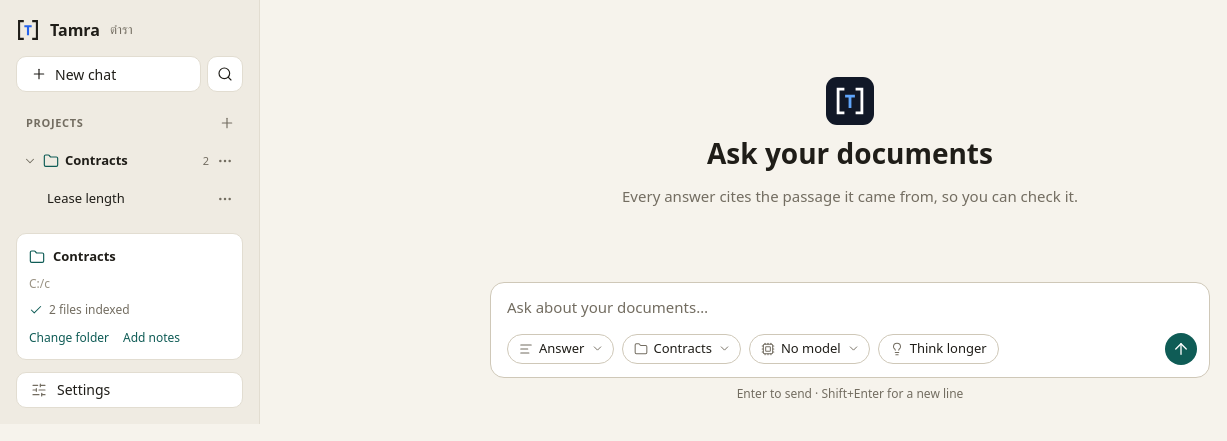
App › offers Rename, Move to project and Delete chat in the chat menu
Click the button named "Options for Lease length" at x=225, y=199, box [211,185,239,213]
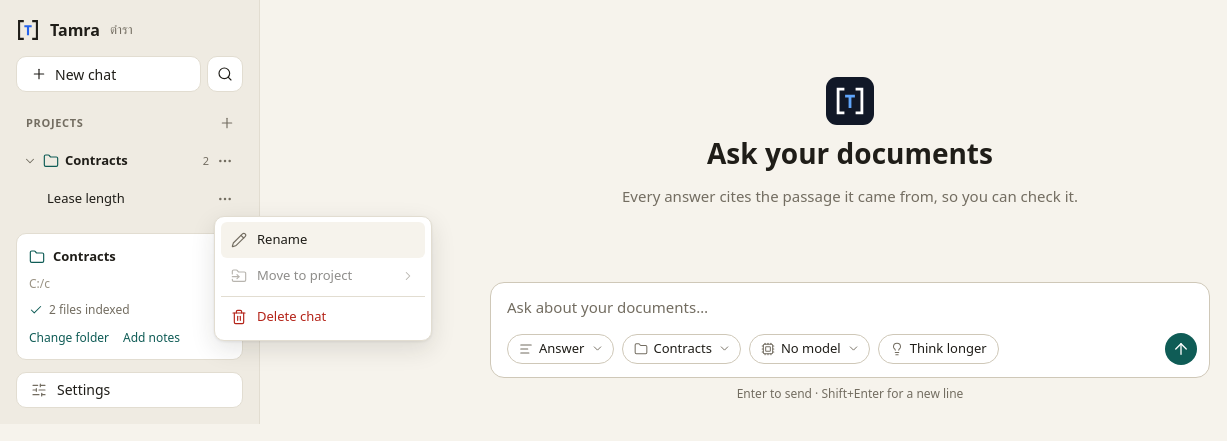
Press Escape in the menu, box [214,216,432,341]
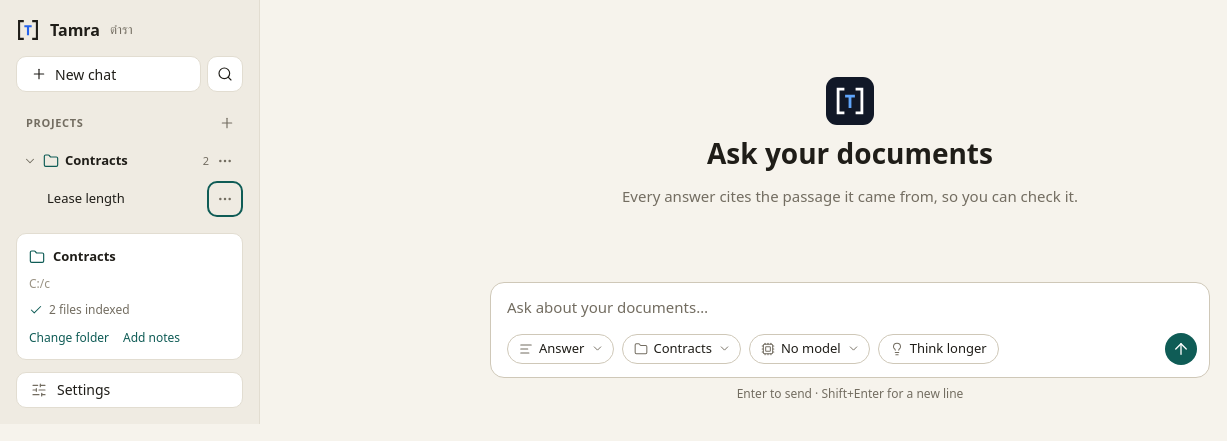
Expected: the menu item is gone
